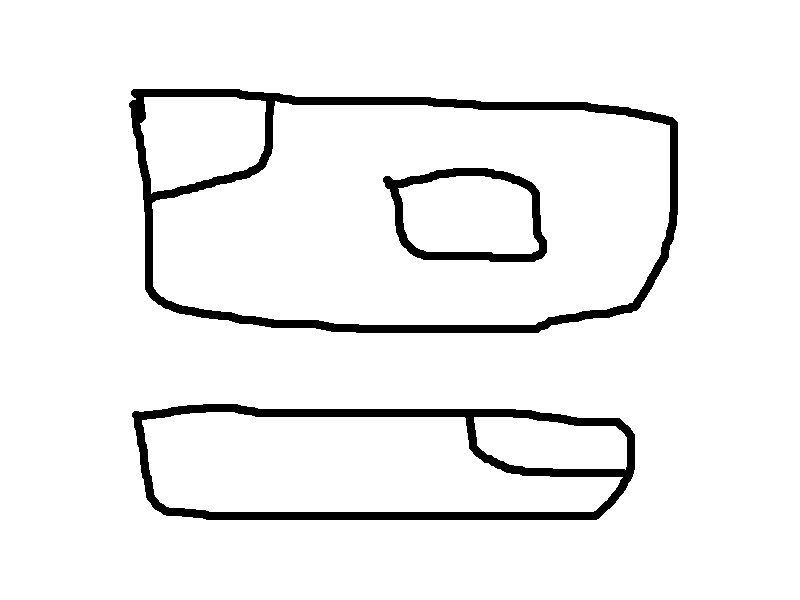dog: (377, 163, 556, 268), (126, 85, 281, 203), (461, 402, 638, 484)
rect: (123, 81, 685, 345), (130, 400, 639, 526)
